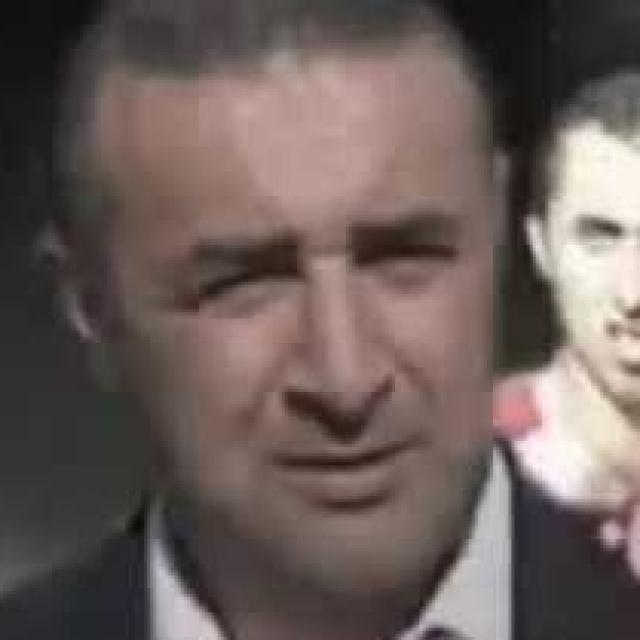Depress: (110, 40, 493, 601)
